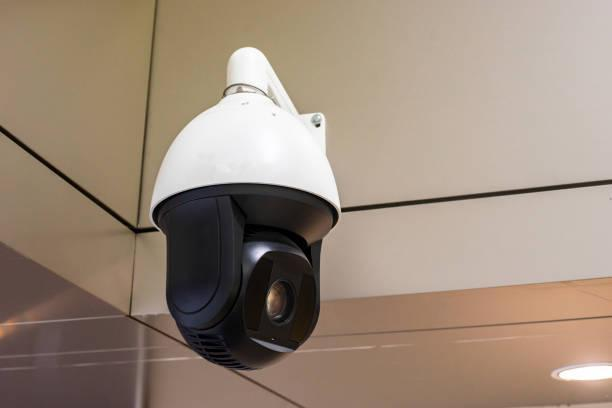camera: (101, 44, 395, 378)
